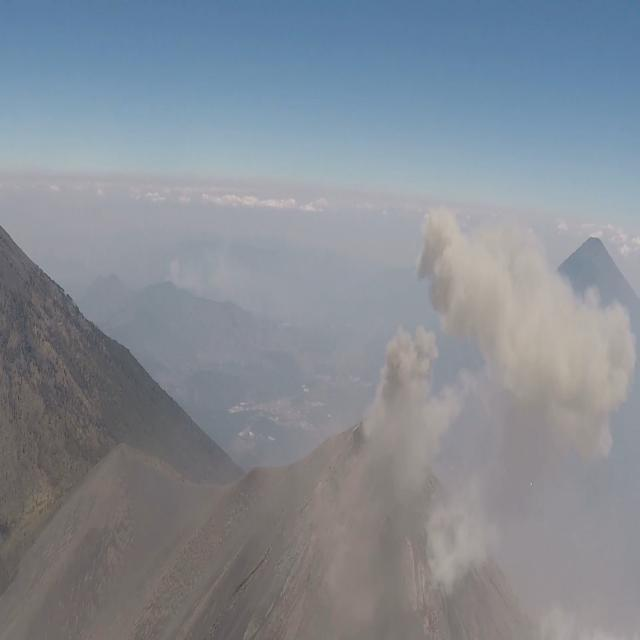Plume: (420, 196, 640, 472), (370, 321, 460, 468)
Summit: (276, 404, 522, 628)
